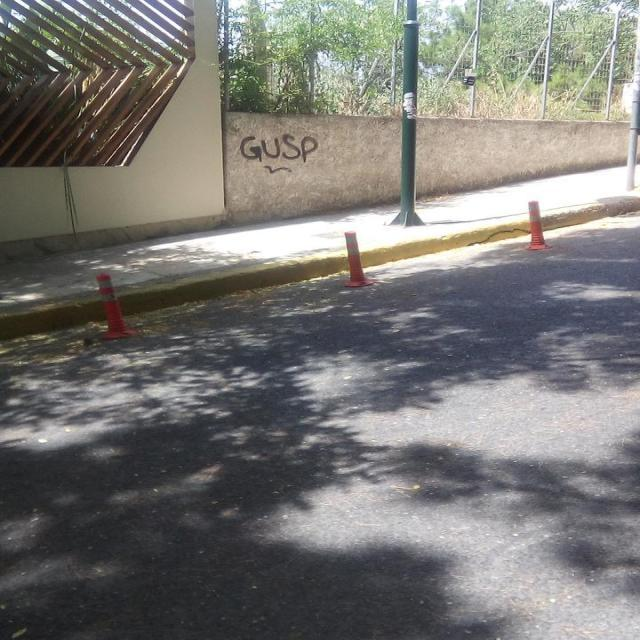nonspitting: (242, 132, 318, 174)
